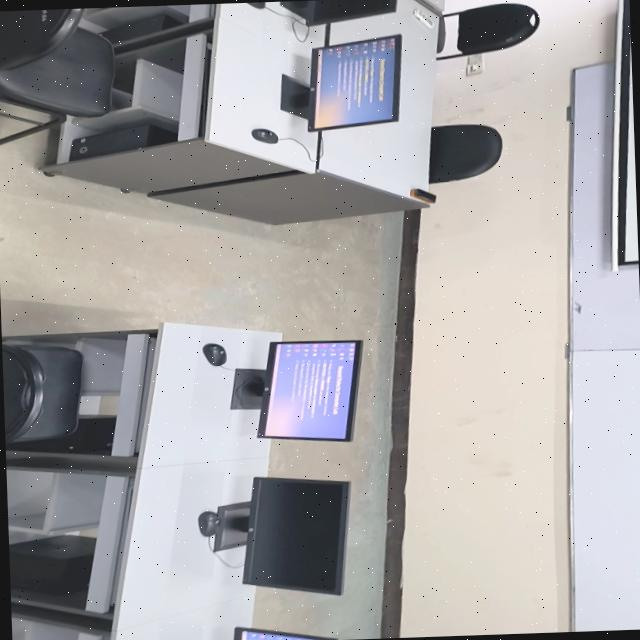Chair: (0, 6, 126, 123), (1, 340, 88, 438), (434, 0, 556, 58), (424, 122, 504, 186)
Cpu: (8, 538, 100, 598), (62, 126, 172, 162)
Monitor: (248, 472, 342, 598), (286, 38, 406, 134), (258, 337, 360, 448), (282, 0, 402, 23), (227, 626, 336, 640)
Mouse: (194, 507, 222, 540), (198, 341, 234, 366), (250, 128, 281, 145)
